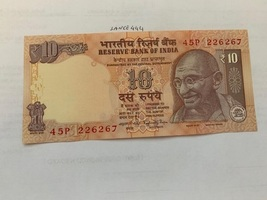ten_rupees_note: (22, 33, 259, 143)
